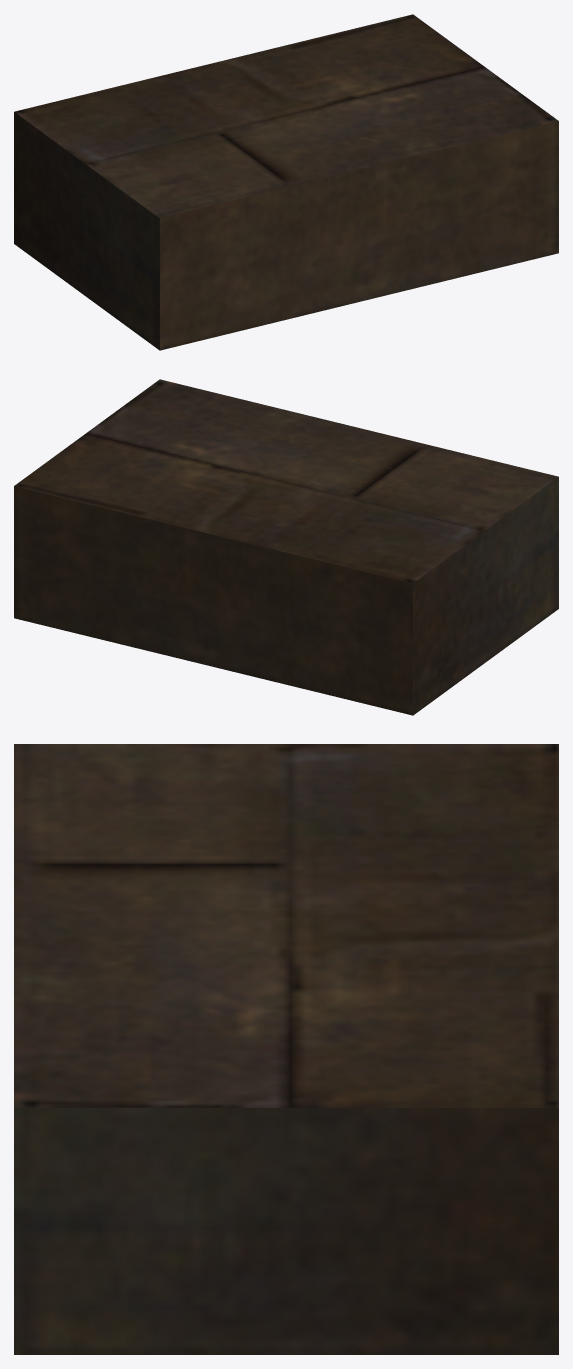
The model's file is cardboard_box_2.fbx.
The picture shows the model from 3 angles, top to bottom: view 1: azimuth 30°, elevation 25°; view 2: azimuth 150°, elevation 25°; view 3: azimuth 270°, elevation 25°; orthographic projection. The views are drawn at different scales.
Visible parts, largest first — view 1: cardboard_box_2; view 2: cardboard_box_2; view 3: cardboard_box_2.
Boxes of the visible parts, <box> form: cardboard_box_2: <box>14,14,558,350</box>; cardboard_box_2: <box>14,379,558,715</box>; cardboard_box_2: <box>14,744,558,1354</box>.
Size of the model in its own units: 0.395 by 0.25 by 0.125.
